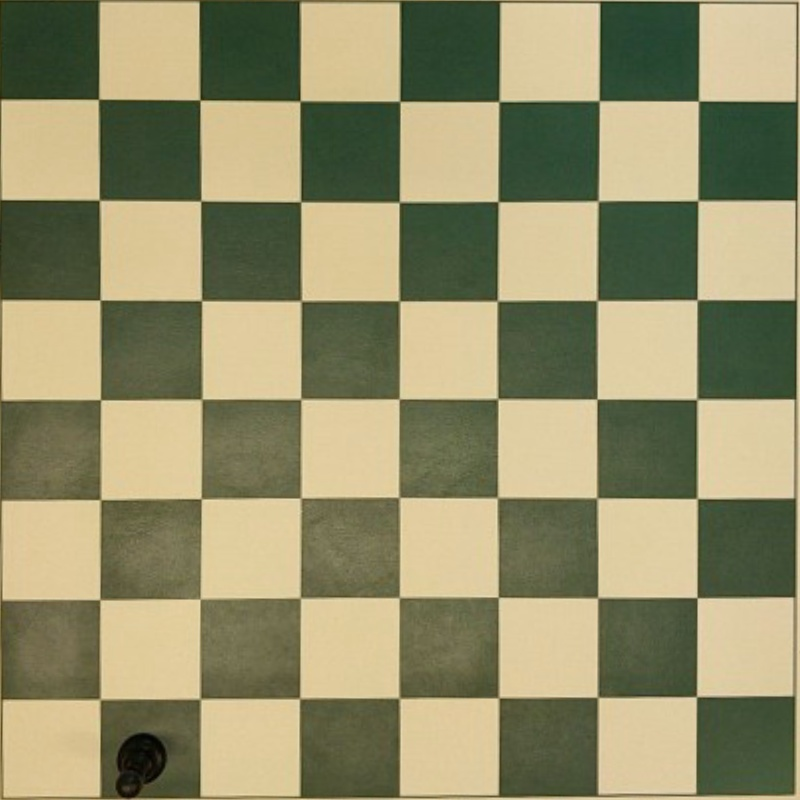black-pawn: (113, 732, 168, 797)
